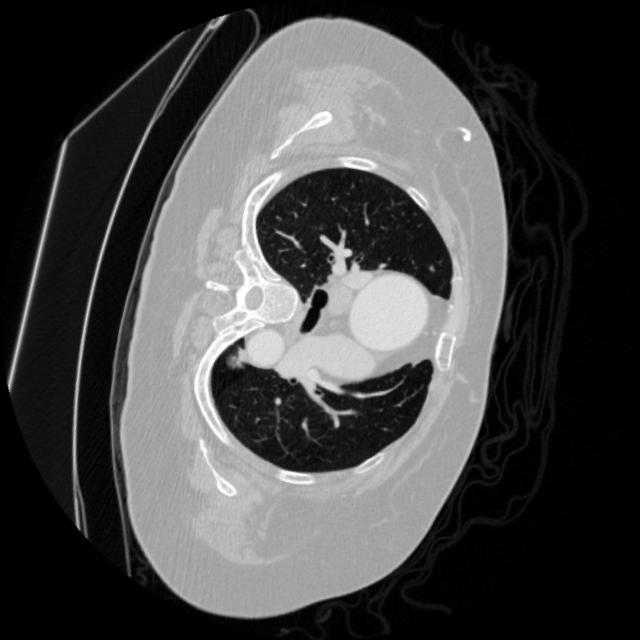nodule: (218, 341, 255, 378)
